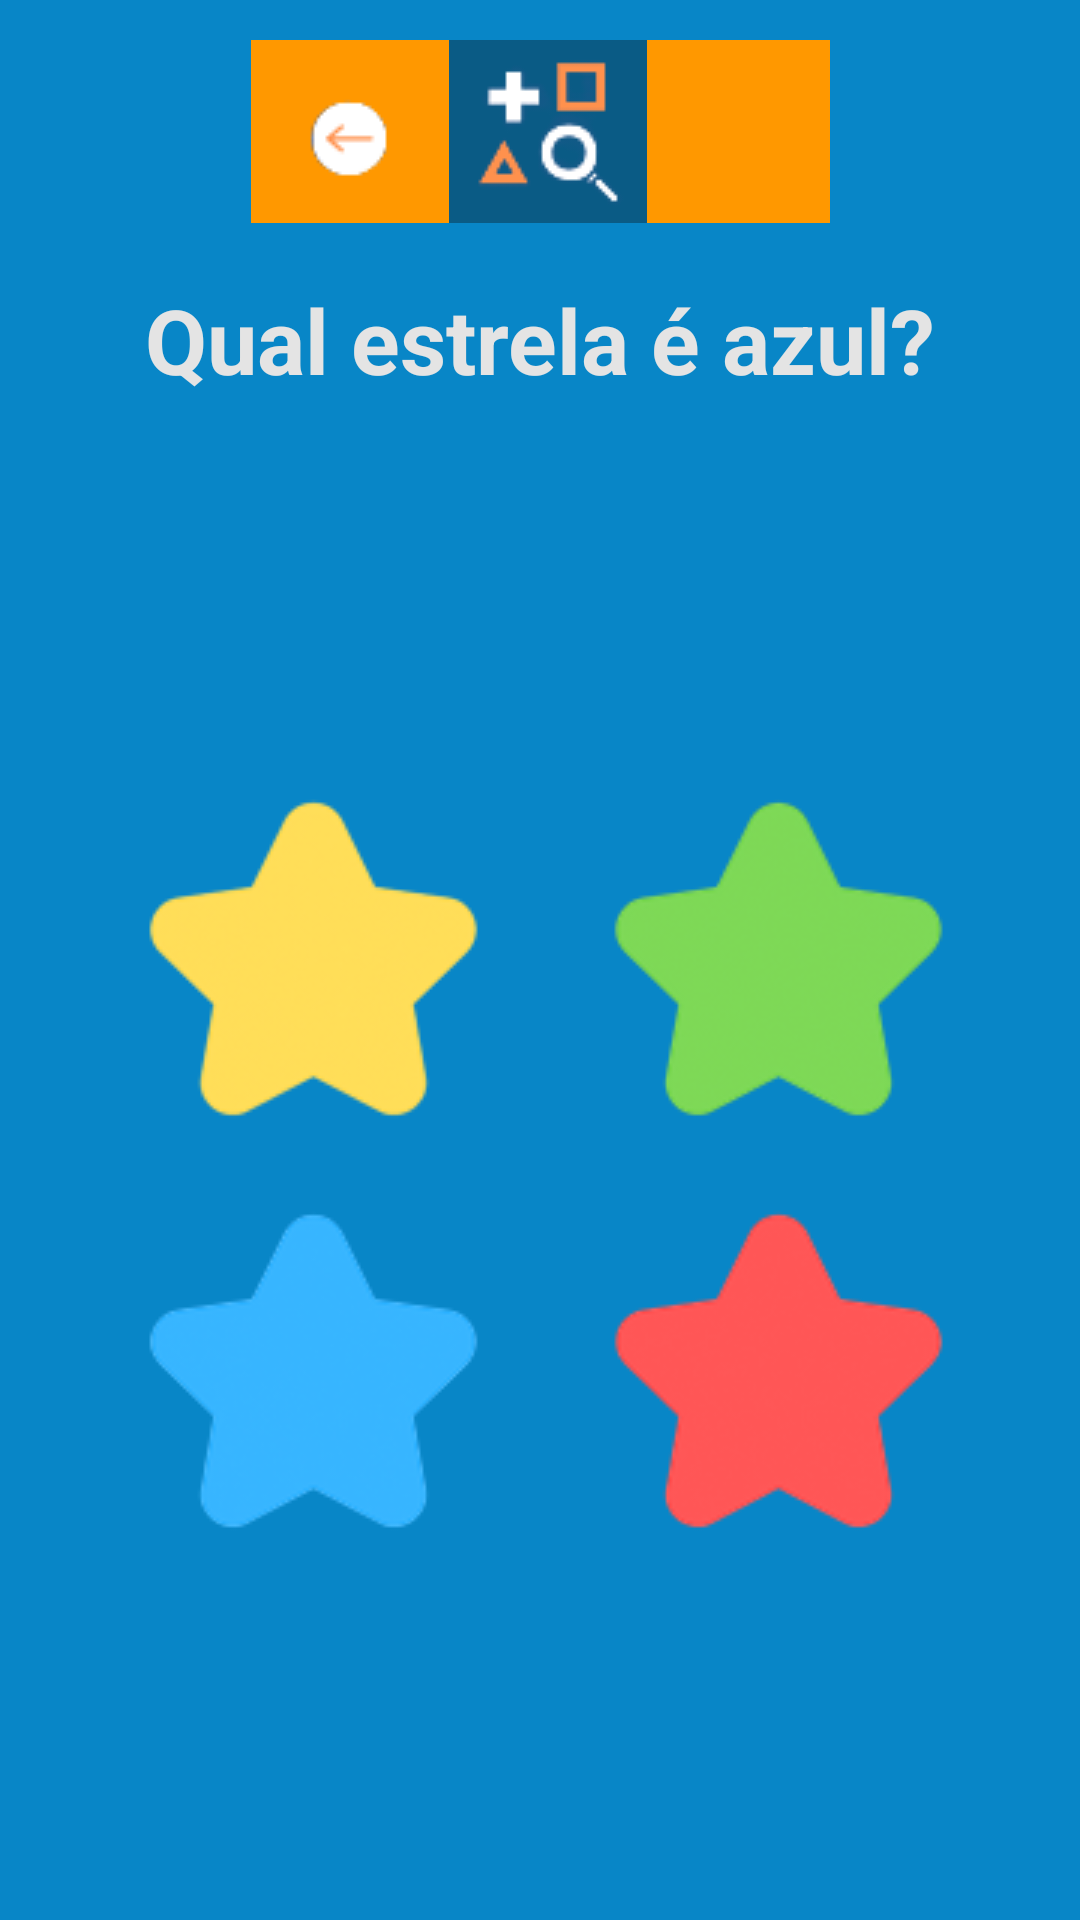

Icon bounding boxes for this 1080*1920 phone screenshot, format (x1, y1, x2, y2):
star: (149, 801, 478, 1116), (614, 802, 943, 1116), (614, 1213, 943, 1528), (150, 1215, 477, 1527)
